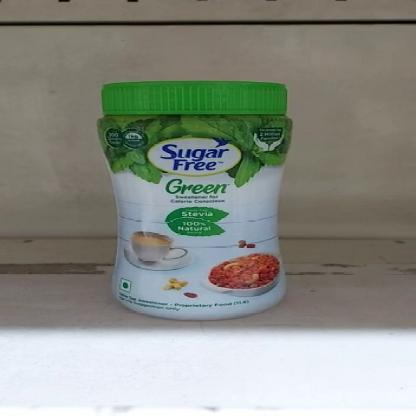SUGAR FREE_GRN_ POWDER_CONC_100G: (99, 79, 298, 323)
